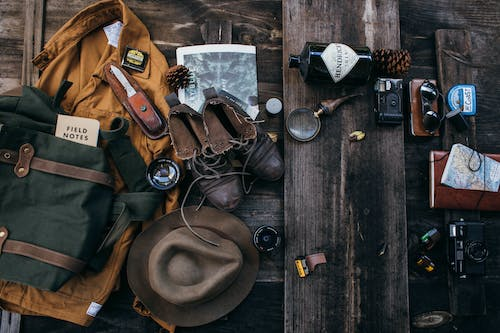knife: (109, 62, 137, 98)
